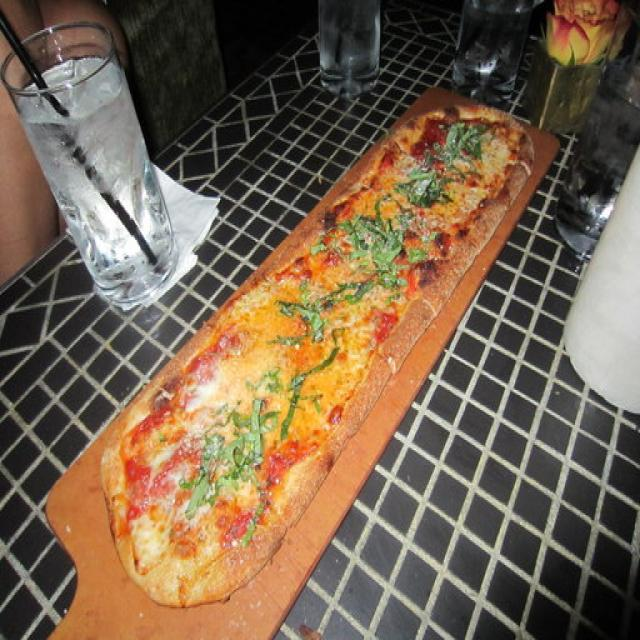Basil: (216, 416, 264, 485), (180, 446, 216, 521), (399, 162, 446, 212), (289, 347, 338, 394), (279, 303, 333, 342), (345, 222, 398, 260), (279, 388, 311, 438), (240, 489, 266, 549), (441, 125, 485, 157), (248, 376, 274, 426), (367, 187, 395, 225), (346, 276, 383, 302), (406, 237, 426, 268), (380, 263, 402, 285), (313, 244, 330, 258), (428, 224, 440, 241)
Pizza: (105, 110, 530, 605)
